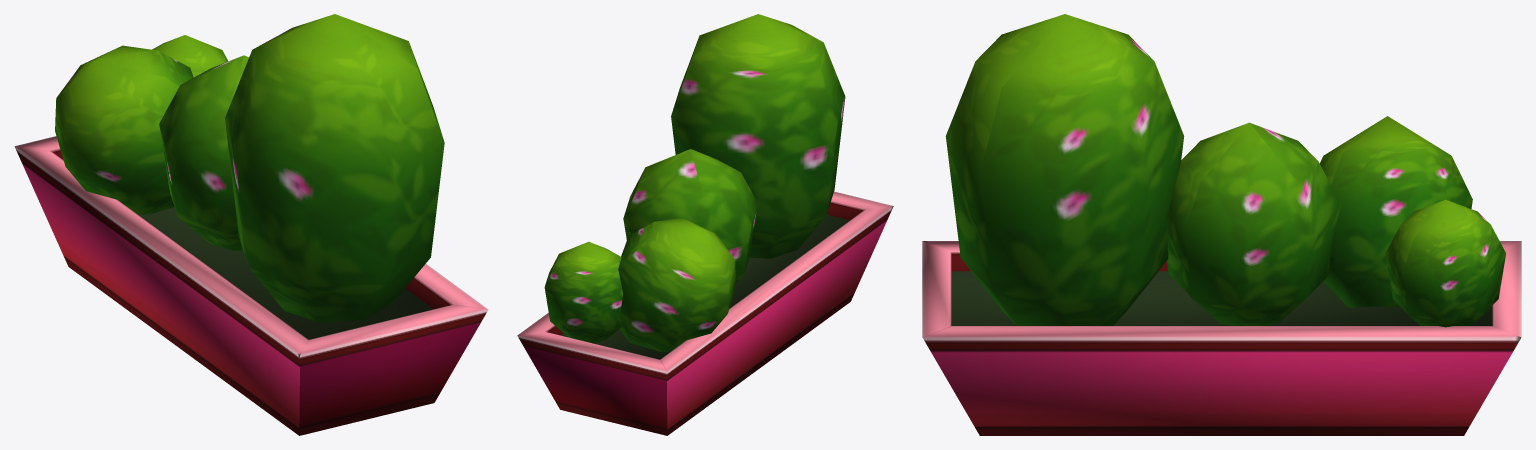
Rendered from Bush.FBX.
3 renders of one model, left to right at view 1: azimuth 30°, elevation 25°; view 2: azimuth 150°, elevation 25°; view 3: azimuth 270°, elevation 25°, orthographic. The views are drawn at different scales.
Parts seen in each view (by area): view 1: Bush; view 2: Bush; view 3: Bush.
Boxes of the visible parts, x1,y1,x2,y2 form: Bush: (14, 14, 488, 435); Bush: (517, 14, 893, 435); Bush: (922, 14, 1521, 435).
Bounding box in the file's own units: 0.8015 × 1.33 × 1.84.
Materials: 1 (1 with a texture image).
